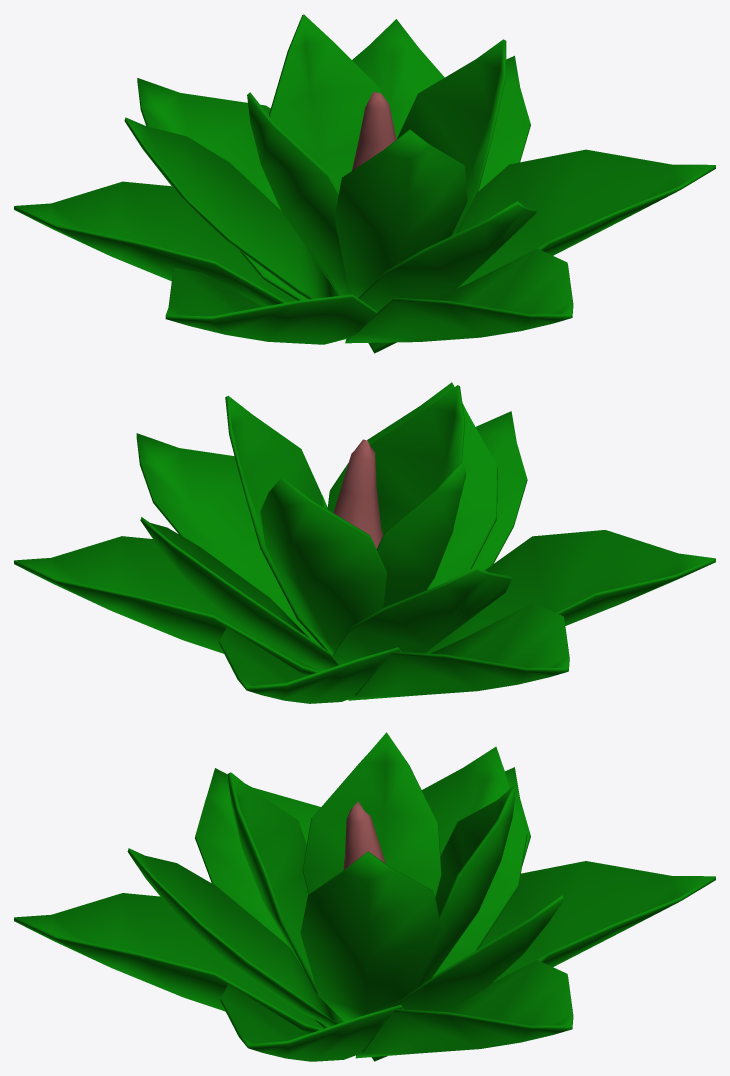
The model's file is Flower01.fbx.
3 views of the same model, one above another, from view 1: azimuth 30°, elevation 25°; view 2: azimuth 150°, elevation 25°; view 3: azimuth 270°, elevation 25° (orthographic).
Parts seen in each view (by area): view 1: Flower01; view 2: Flower01; view 3: Flower01.
Part boxes in pixels (x1,y1,x2,y2): Flower01: (14, 14, 715, 353); Flower01: (14, 382, 715, 703); Flower01: (14, 732, 715, 1061).
Size of the model in its own units: 0.4071 by 0.1868 by 0.4352.
